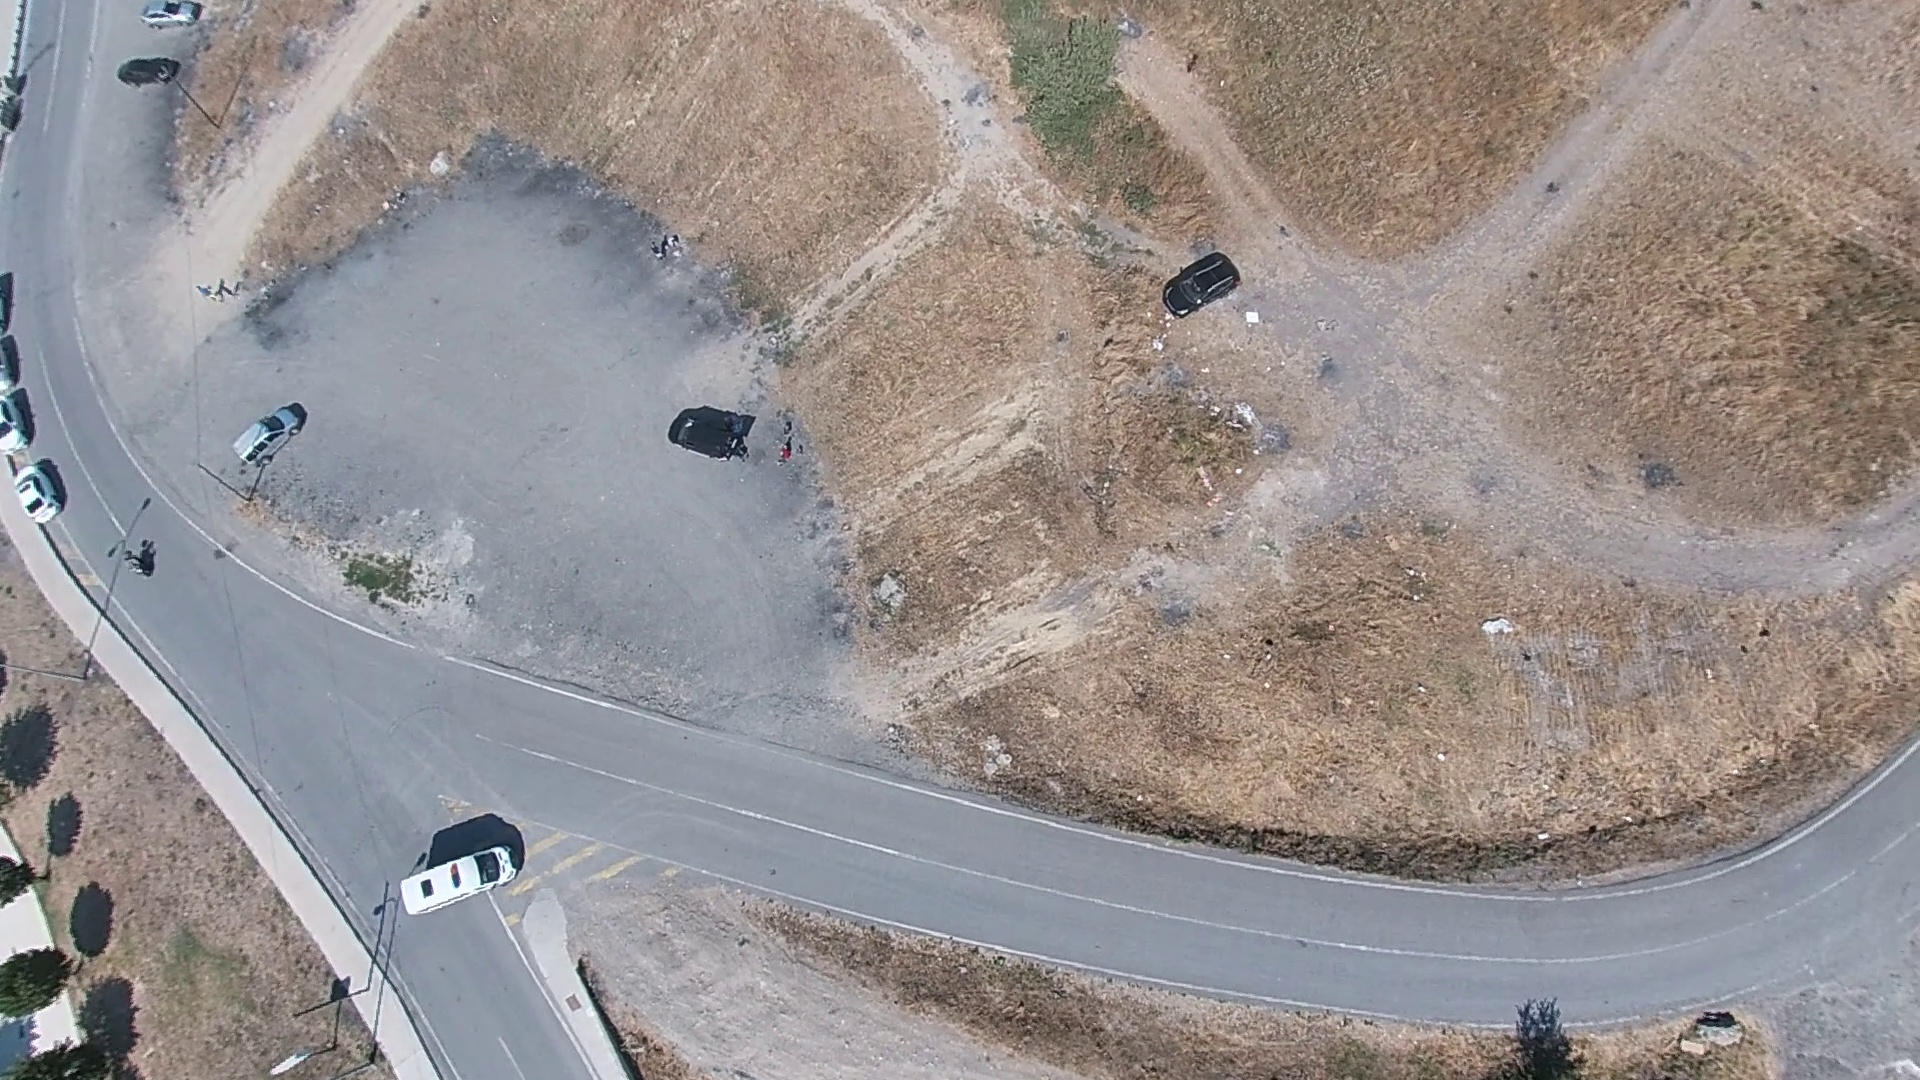arac: (393, 839, 510, 923), (1162, 247, 1240, 318), (230, 399, 304, 468), (665, 405, 748, 458), (10, 457, 66, 534), (116, 51, 187, 86), (137, 1, 199, 30)
insan: (196, 280, 220, 303), (650, 238, 662, 262), (780, 443, 793, 460)
